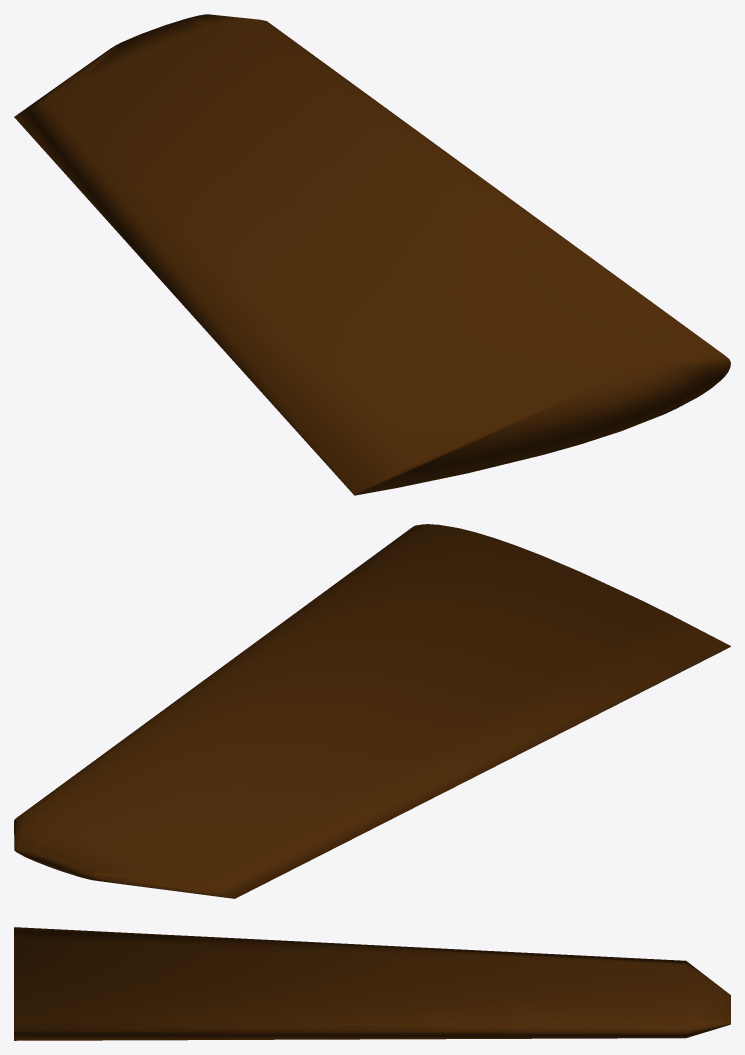
Rendered from rudder_colored.obj.
The picture shows the model from 3 angles, top to bottom: view 1: azimuth 30°, elevation 25°; view 2: azimuth 150°, elevation 25°; view 3: azimuth 270°, elevation 25°; orthographic projection. The views are drawn at different scales.
Size of the model in its own units: 0.0902 by 0.0152 by 0.2032.
